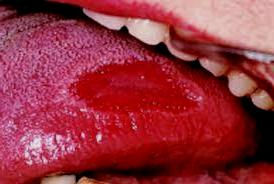Ulcer: (61, 62, 188, 136)
